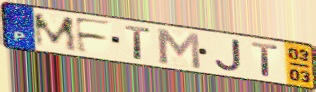F: (73, 16, 114, 56)
J: (213, 38, 243, 74)
M: (154, 26, 204, 71), (31, 12, 80, 53)
T: (250, 41, 281, 79), (123, 24, 153, 62)
